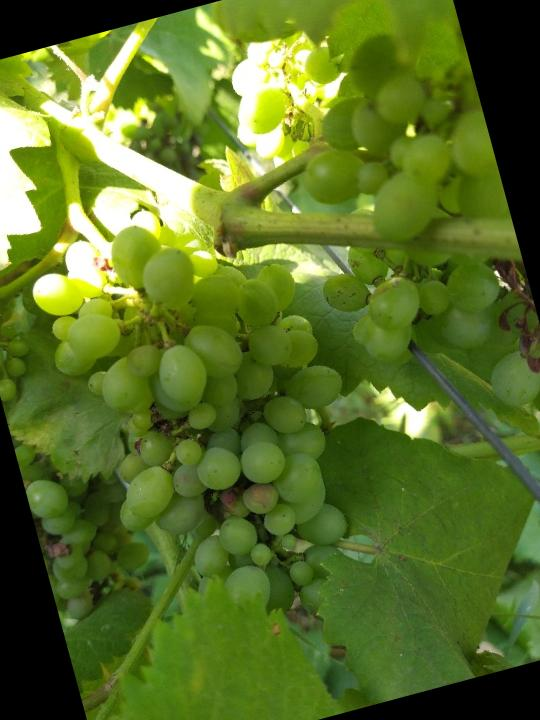grape: (16, 166, 405, 670)
